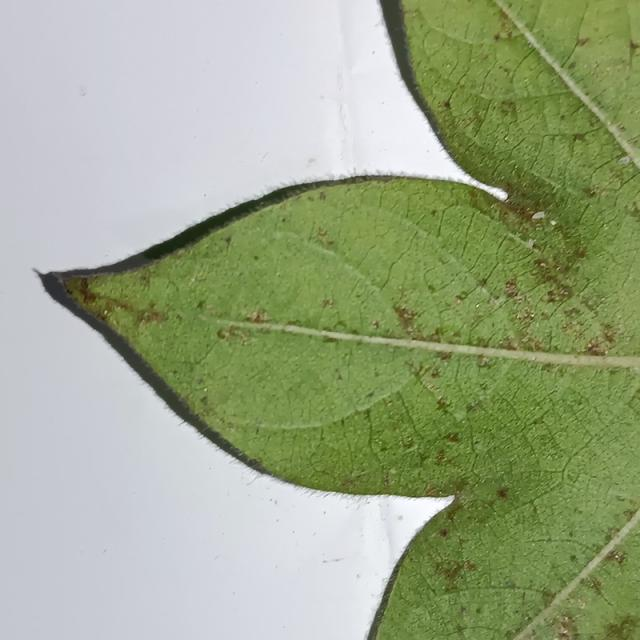Bacterial_Blight: (449, 486, 517, 531), (494, 191, 549, 226), (604, 165, 639, 200), (393, 305, 422, 334), (216, 324, 256, 345), (602, 616, 637, 640), (72, 278, 100, 307), (544, 282, 573, 305), (551, 616, 577, 639), (496, 11, 516, 39), (443, 502, 465, 522), (456, 287, 477, 306), (142, 310, 166, 326), (443, 564, 464, 582), (587, 577, 605, 598), (604, 549, 626, 566), (245, 309, 269, 324), (316, 227, 334, 246), (338, 476, 361, 490), (586, 340, 606, 356), (504, 279, 519, 298), (422, 380, 442, 394), (542, 590, 557, 608), (497, 480, 511, 498), (502, 338, 519, 352), (466, 398, 483, 412), (443, 431, 460, 443), (402, 442, 419, 454), (628, 39, 639, 57), (321, 334, 339, 344), (626, 396, 639, 409), (436, 397, 450, 409), (623, 509, 637, 521), (64, 282, 76, 296), (333, 319, 347, 331), (404, 9, 418, 20), (323, 556, 345, 563), (614, 493, 631, 502), (572, 132, 587, 142), (321, 297, 333, 309), (402, 436, 414, 448), (382, 471, 391, 486), (576, 248, 587, 260), (195, 299, 206, 311), (476, 277, 488, 288), (454, 294, 466, 305), (216, 329, 228, 340), (438, 351, 451, 361), (576, 37, 589, 47), (505, 580, 517, 590), (436, 450, 446, 461), (577, 598, 587, 609), (199, 395, 209, 405), (371, 319, 380, 330), (224, 235, 232, 247), (619, 156, 631, 164), (439, 528, 448, 538), (318, 191, 327, 201), (426, 284, 436, 293), (455, 624, 465, 633), (78, 86, 87, 96), (443, 100, 452, 109), (567, 61, 576, 70), (307, 157, 316, 166), (527, 239, 536, 248), (365, 391, 374, 399), (569, 554, 578, 562), (493, 33, 501, 41), (460, 605, 467, 614), (437, 488, 446, 495), (475, 606, 482, 614), (530, 628, 537, 636), (562, 616, 570, 623), (337, 373, 343, 380), (540, 262, 547, 268), (397, 514, 403, 521), (587, 343, 593, 349), (524, 616, 530, 622), (214, 555, 220, 560), (504, 136, 509, 141), (531, 356, 536, 361), (103, 548, 107, 554), (203, 388, 208, 392), (203, 193, 206, 198)
Cotton: (66, 0, 639, 639)
